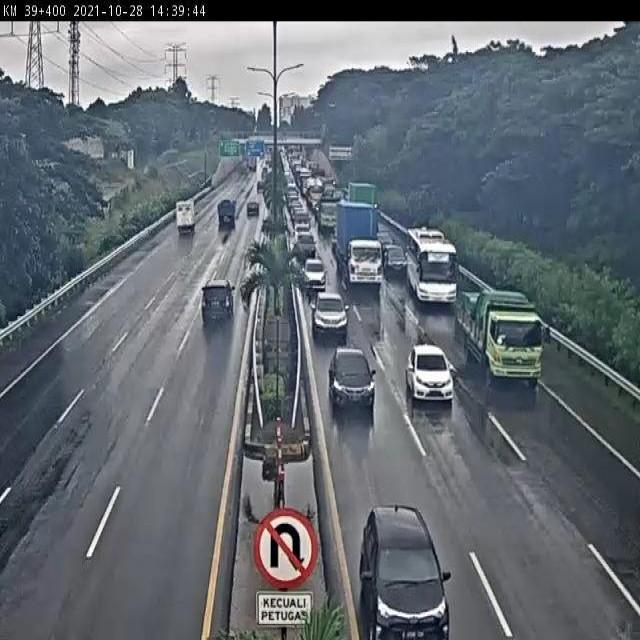big bus: (405, 225, 456, 300)
big truck: (336, 198, 381, 282)
car: (359, 506, 449, 640), (406, 344, 456, 405), (327, 348, 374, 407), (309, 288, 346, 335), (199, 278, 235, 326), (383, 240, 408, 275), (303, 257, 326, 291), (295, 231, 317, 257), (290, 214, 312, 238)
mid truck: (457, 284, 539, 379)
small truck: (174, 195, 197, 236), (214, 198, 239, 230)
